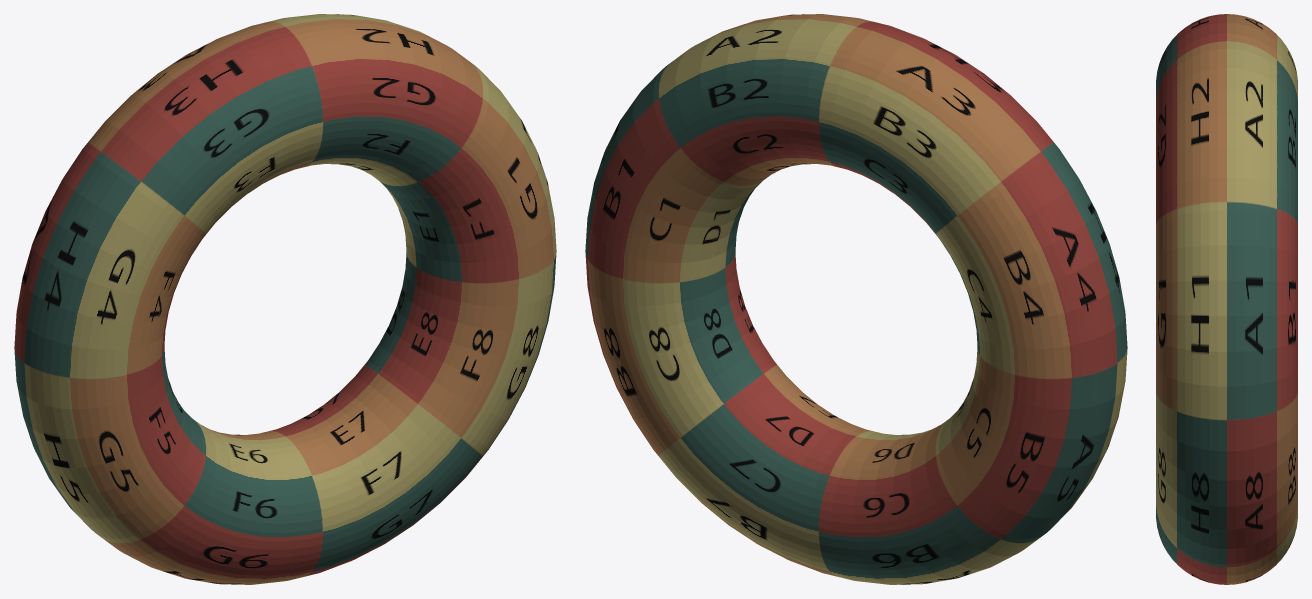
Rendered from texture_torus_R23_r24.glb.
The picture shows the model from 3 angles, left to right: view 1: azimuth 30°, elevation 25°; view 2: azimuth 150°, elevation 25°; view 3: azimuth 270°, elevation 25°; orthographic projection. The views are drawn at different scales.
Parts seen in each view (by area): view 1: world; view 2: world; view 3: world.
Part boxes in pixels (bbox=[...]): world: bbox=[14, 14, 556, 584]; world: bbox=[585, 14, 1127, 584]; world: bbox=[1156, 14, 1297, 584].
Size of the model in its own units: 33.73 by 33.67 by 8.38.
1 material, 1 textured.
